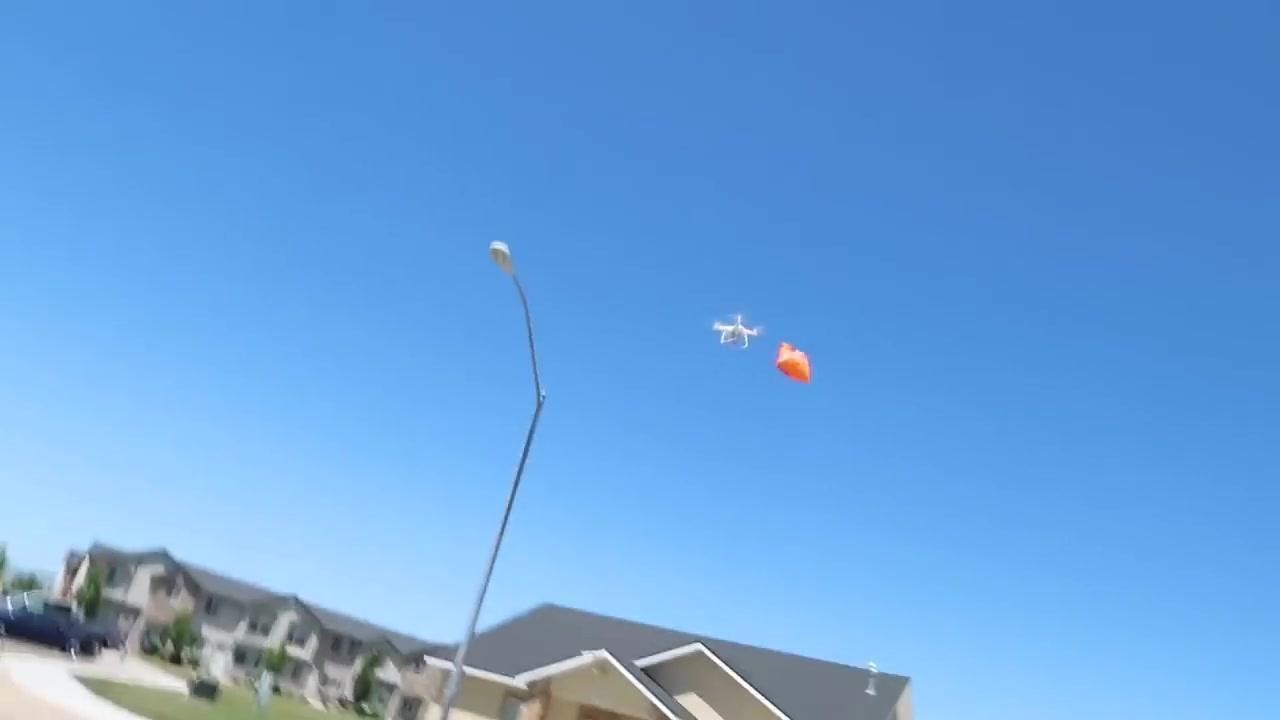UAV: (713, 313, 763, 349)
